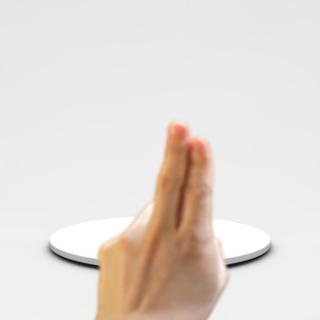DHAVE: (89, 114, 238, 320)
